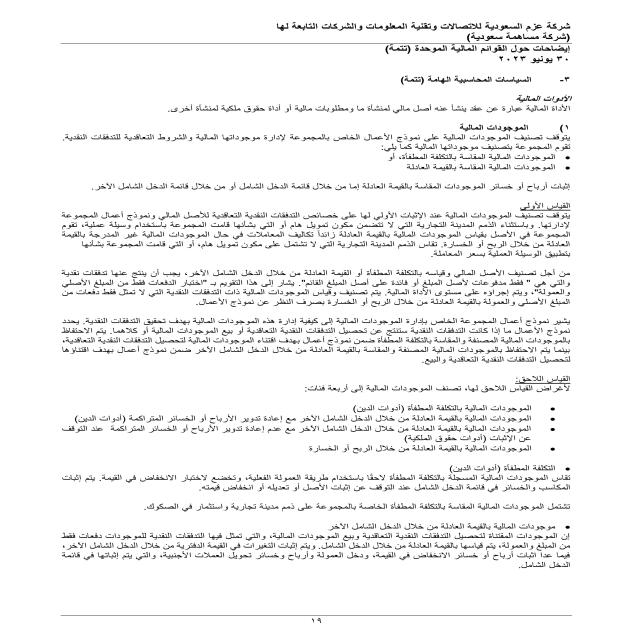notes: (376, 44, 572, 57)
text: (28, 87, 579, 571)
